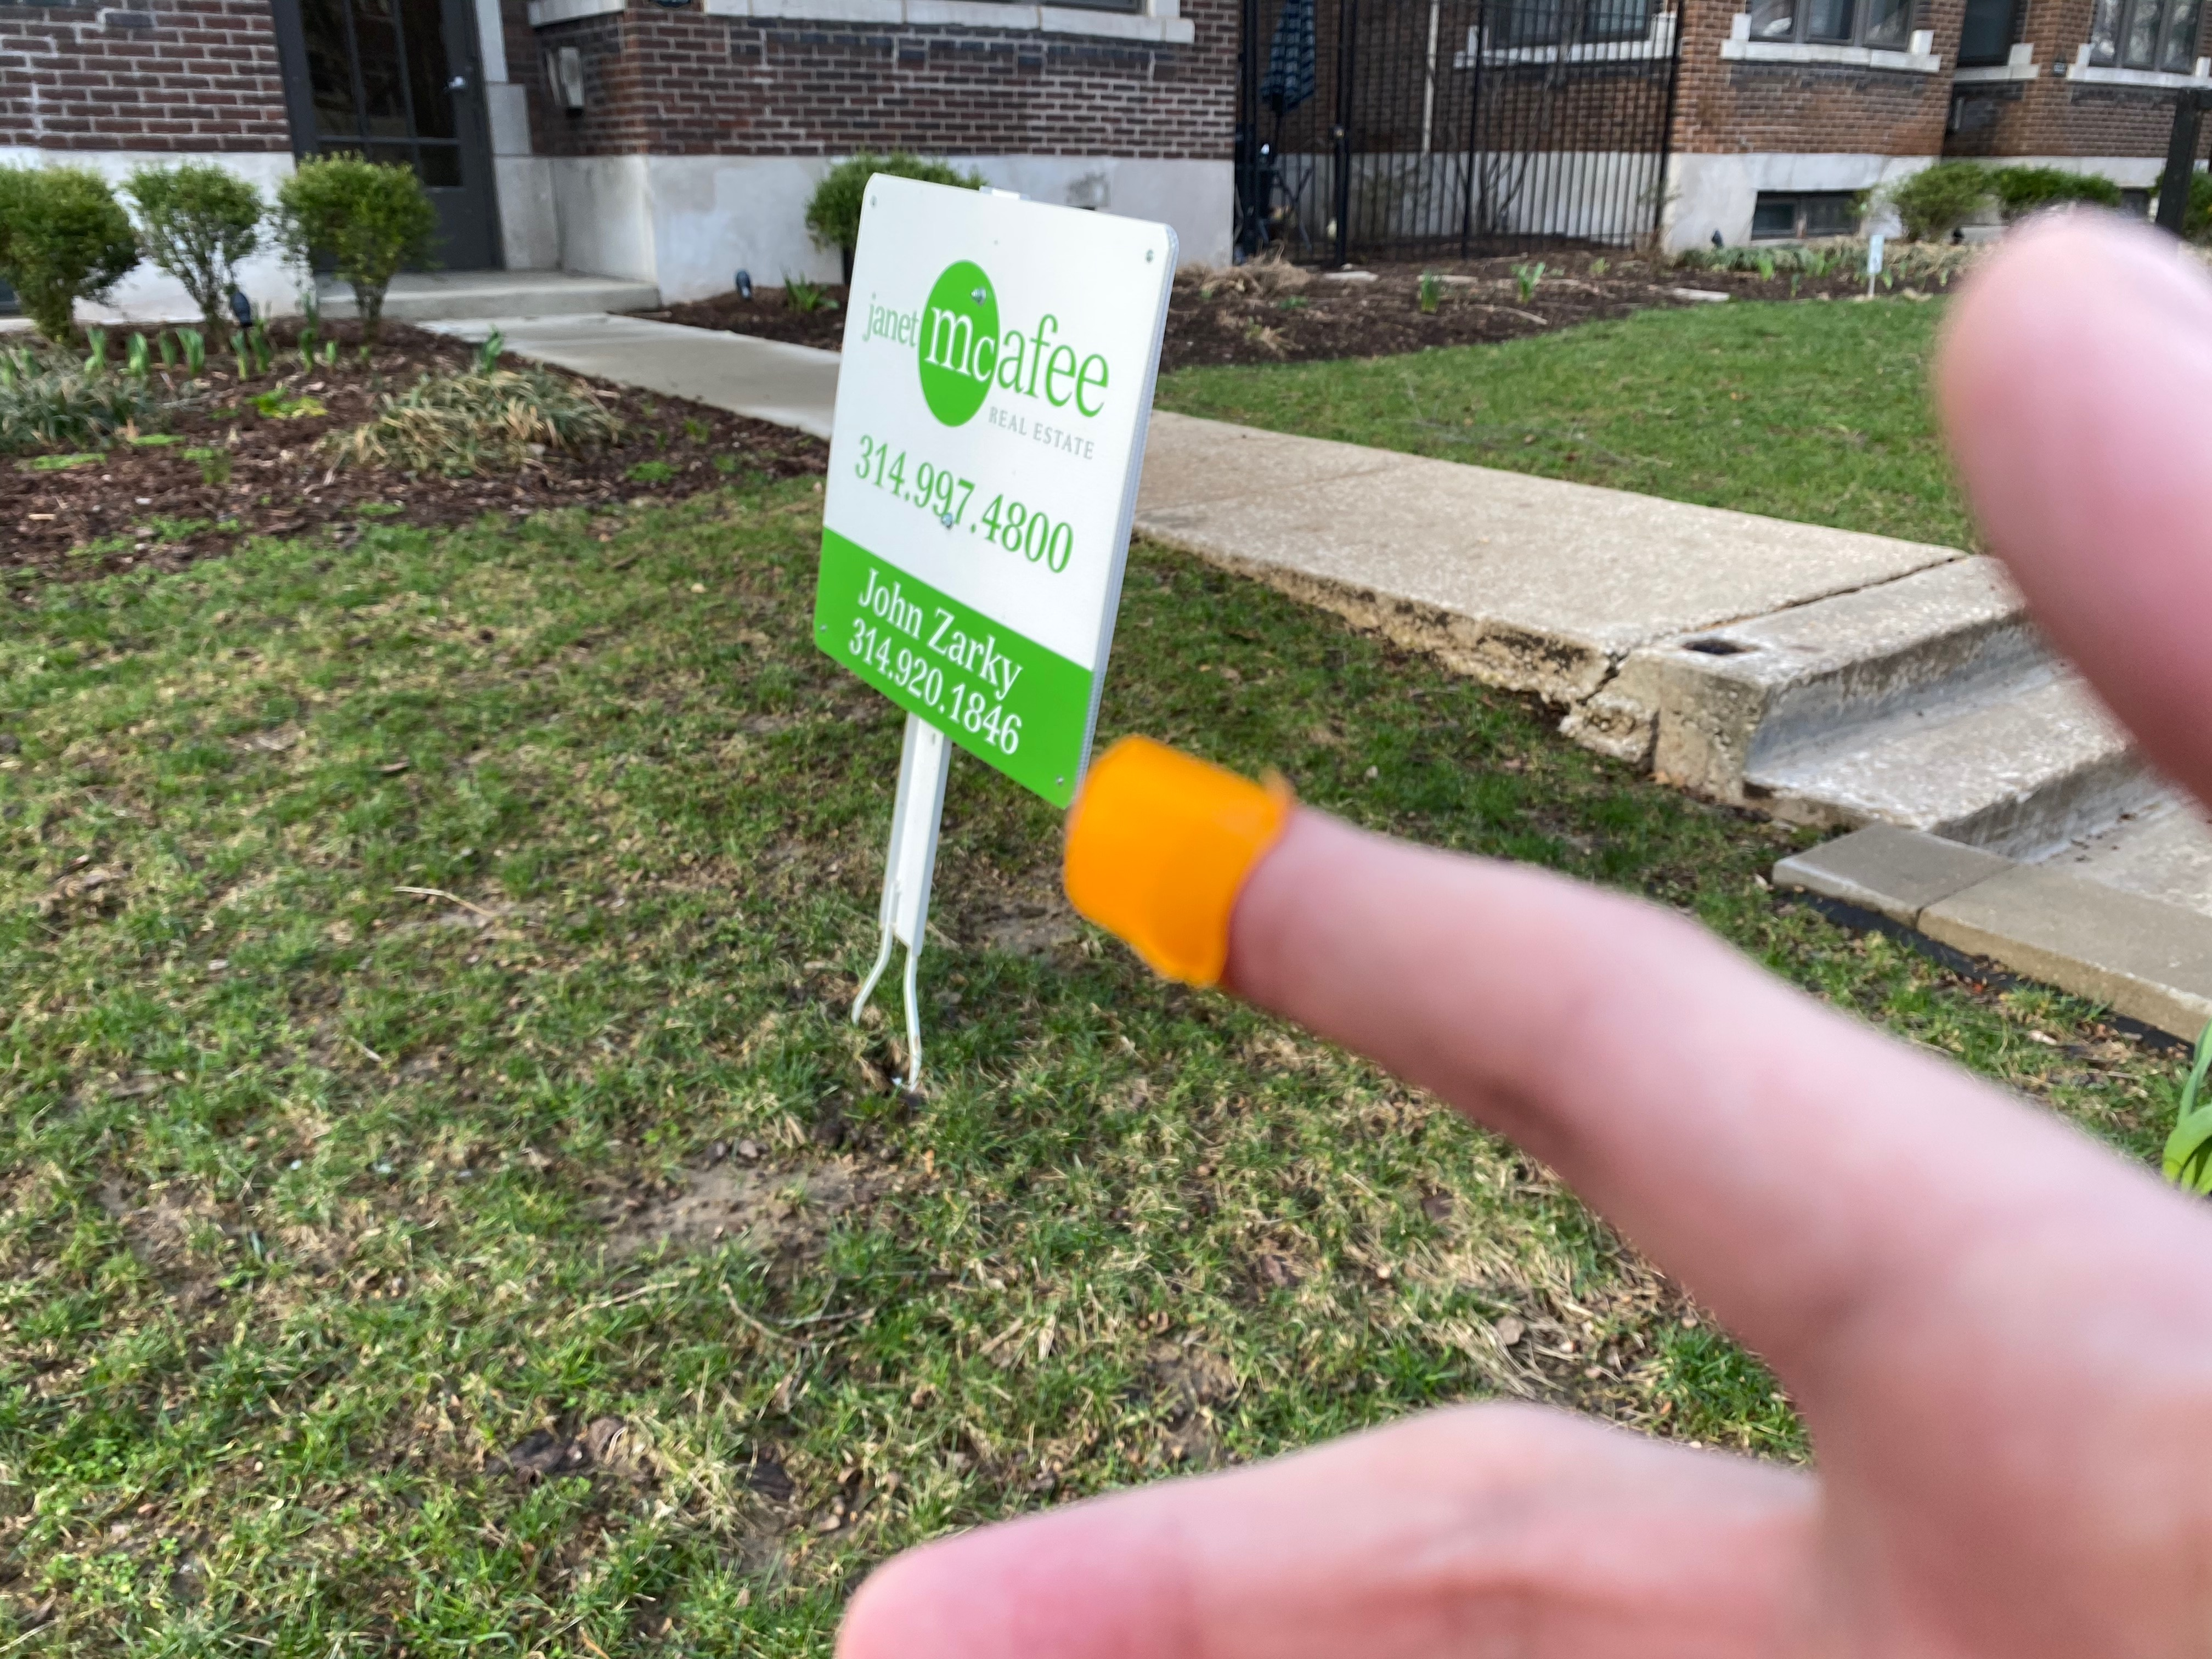fingertip: (968, 709, 1409, 1042)
